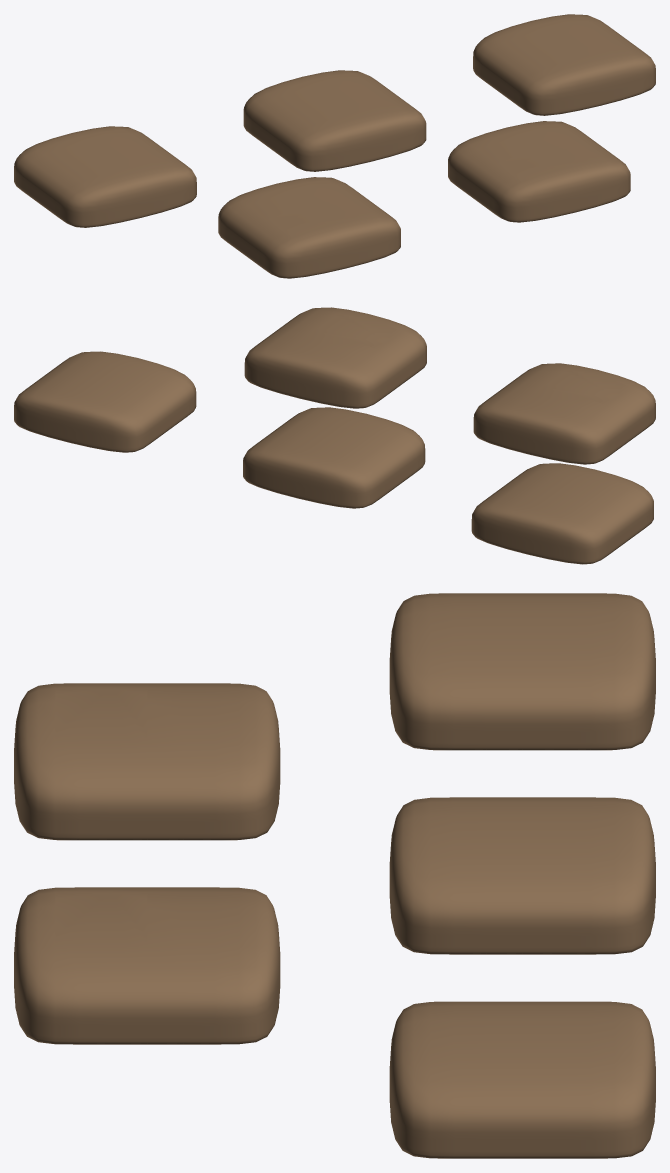
Rendered from Ofuda_Bantal.fbx.
3 renders of one model, top to bottom at view 1: azimuth 30°, elevation 25°; view 2: azimuth 150°, elevation 25°; view 3: azimuth 270°, elevation 25°, orthographic. The views are drawn at different scales.
Parts seen in each view (by area): view 1: Bantal Lesehan.008; view 2: Bantal Lesehan.008; view 3: Bantal Lesehan.008.
Boxes of the visible parts, left/top/right/bottom form: Bantal Lesehan.008: left=14, top=14, right=655, bottom=278; Bantal Lesehan.008: left=14, top=307, right=655, bottom=564; Bantal Lesehan.008: left=14, top=593, right=655, bottom=1158.
Bounding box in the file's own units: 667 × 40.56 × 347.
